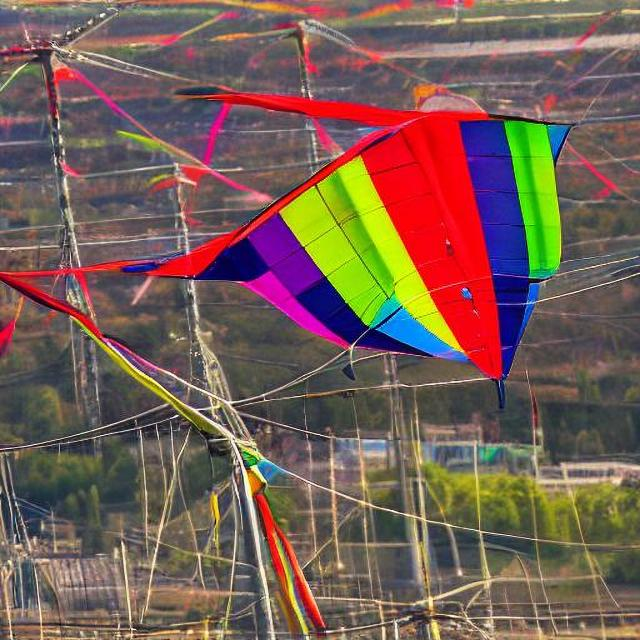floating object: (144, 104, 564, 376)
